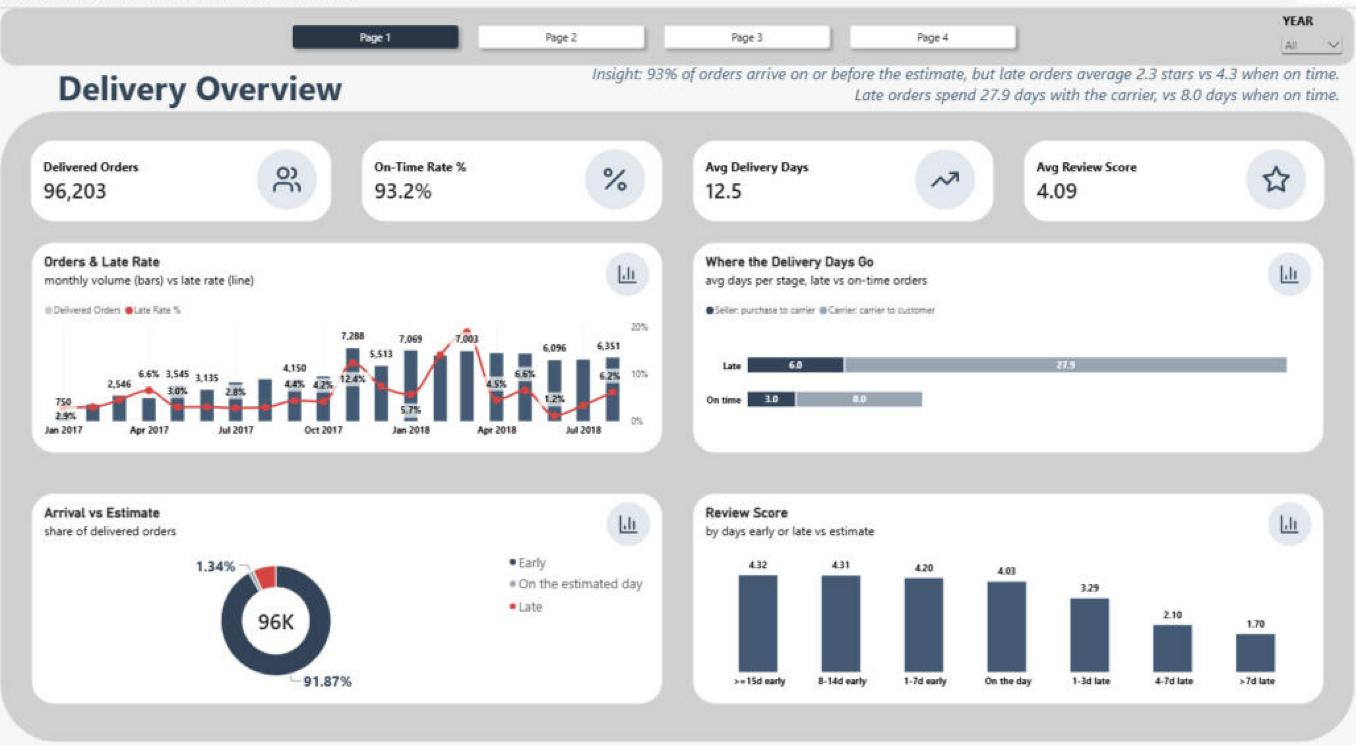

The dashboard page shown, as its layout file describes it:
{"tool":"powerbi","page":{"name":"Page 1","canvas":[1920,1080],"ordinal":0},"visuals":[{"type":"shape","box":[59.8,43.8,1800.4,75.9],"z":0},{"type":"shape","box":[59.8,180.9,1800.4,838.9],"z":0,"group":"g1"},{"type":"textbox","title":"Delivery Overview","box":[135.6,119.4,978.4,61.9],"z":1000},{"type":"group","id":"g1","title":"Group 1","box":[59.8,180.9,1800.4,838.9],"z":2000},{"type":"cardVisual","fields":{"Data":["fact_orders.Delivered Orders Display"]},"box":[100,219.6,400,108.9],"z":3000,"group":"g1"},{"type":"image","box":[813.7,231.8,125.5,80.2],"z":3000},{"type":"slicer","fields":{"Values":["Calendar.Year"]},"box":[1757.1,49.9,93.1,63.2],"z":4000},{"type":"cardVisual","fields":{"Data":["fact_orders.On-Time Rate %"]},"box":[540,219,400,108.9],"z":4000,"group":"g1"},{"type":"cardVisual","fields":{"Data":["fact_orders.Avg Delivery Days"]},"box":[980,219,400,108.9],"z":5000,"group":"g1"},{"type":"image","box":[848.7,368.4,90,57.6],"z":5000},{"type":"cardVisual","fields":{"Data":["fact_orders.Avg Review Score"]},"box":[1420,219,400,108.9],"z":6000,"group":"g1"},{"type":"image","box":[1728.4,368.4,90,57.6],"z":6000},{"type":"lineClusteredColumnComboChart","title":"Orders & Late Rate","fields":{"Category":["Calendar.Month Start"],"Y":["fact_orders.Delivered Orders"],"Y2":["fact_orders.Late Rate %"]},"box":[100.7,355.7,838.9,279.8],"z":7000,"group":"g1"},{"type":"image","box":[1729.6,701,90,57.6],"z":7000},{"type":"barChart","title":"Where the Delivery Days Go","fields":{"Category":["fact_orders.Delivery Status"],"Y":["fact_orders.Avg Seller Days","fact_orders.Avg Carrier Days"]},"box":[980.4,355.7,838.9,279.8],"z":8000,"group":"g1"},{"type":"image","box":[850.1,701,90,57.6],"z":8000},{"type":"image","box":[377.2,231.8,125.5,80.2],"z":9000},{"type":"donutChart","title":"Arrival vs Estimate","fields":{"Category":["fact_orders.Arrival"],"Y":["fact_orders.Delivered Orders"]},"box":[100.7,689.5,838.9,279.8],"z":9000,"group":"g1"},{"type":"pageNavigator","box":[439.1,56.9,980.4,49.6],"z":10000},{"type":"columnChart","title":"Review Score","fields":{"Category":["fact_orders.Delay Bucket"],"Y":["fact_orders.Avg Review (Delivered)"]},"box":[980.4,689.5,838.9,279.8],"z":10000,"group":"g1"},{"type":"image","box":[1693.3,231.8,125.5,80.2],"z":11000},{"type":"image","box":[1253.5,231.8,125.5,80.2],"z":12000},{"type":"textbox","title":"Insight: 93% of orders arrive on or before the estimate, but late orders average 2.3 stars vs 4.3 when on time. Late orders spend 27.9 days with the carrier, vs 8.0 days when on time.","box":[840,116,1000,64],"z":14000}]}

Visuals, with their boxes in screenshot pixels (x1, y1, x2, y2), scaled from the page's 1920x1080 canvas onto the 1356x745 screenshot:
shape: left=42, top=30, right=1314, bottom=83
shape: left=42, top=125, right=1314, bottom=703
"Delivery Overview" textbox: left=96, top=82, right=787, bottom=125
"Group 1" group: left=42, top=125, right=1314, bottom=703
cardVisual - fact_orders.Delivered Orders Display: left=71, top=151, right=353, bottom=227
image: left=575, top=160, right=663, bottom=215
slicer - Calendar.Year: left=1241, top=34, right=1307, bottom=78
cardVisual - fact_orders.On-Time Rate %: left=381, top=151, right=664, bottom=226
cardVisual - fact_orders.Avg Delivery Days: left=692, top=151, right=975, bottom=226
image: left=599, top=254, right=663, bottom=294
cardVisual - fact_orders.Avg Review Score: left=1003, top=151, right=1285, bottom=226
image: left=1221, top=254, right=1284, bottom=294
"Orders & Late Rate" lineClusteredColumnComboChart: left=71, top=245, right=664, bottom=438
image: left=1222, top=484, right=1285, bottom=523
"Where the Delivery Days Go" barChart: left=692, top=245, right=1285, bottom=438
image: left=600, top=484, right=664, bottom=523
image: left=266, top=160, right=355, bottom=215
"Arrival vs Estimate" donutChart: left=71, top=476, right=664, bottom=669
pageNavigator: left=310, top=39, right=1003, bottom=73
"Review Score" columnChart: left=692, top=476, right=1285, bottom=669
image: left=1196, top=160, right=1285, bottom=215
image: left=885, top=160, right=974, bottom=215
"Insight: 93% of orders arrive on or before the estimate, but late orders average 2.3 stars vs 4.3 when on time. Late orders spend 27.9 days with the carrier, vs 8.0 days when on time." textbox: left=593, top=80, right=1300, bottom=124
